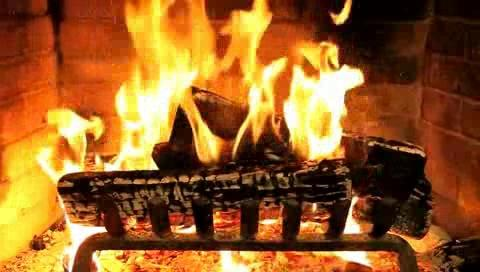fire: (98, 4, 374, 191)
